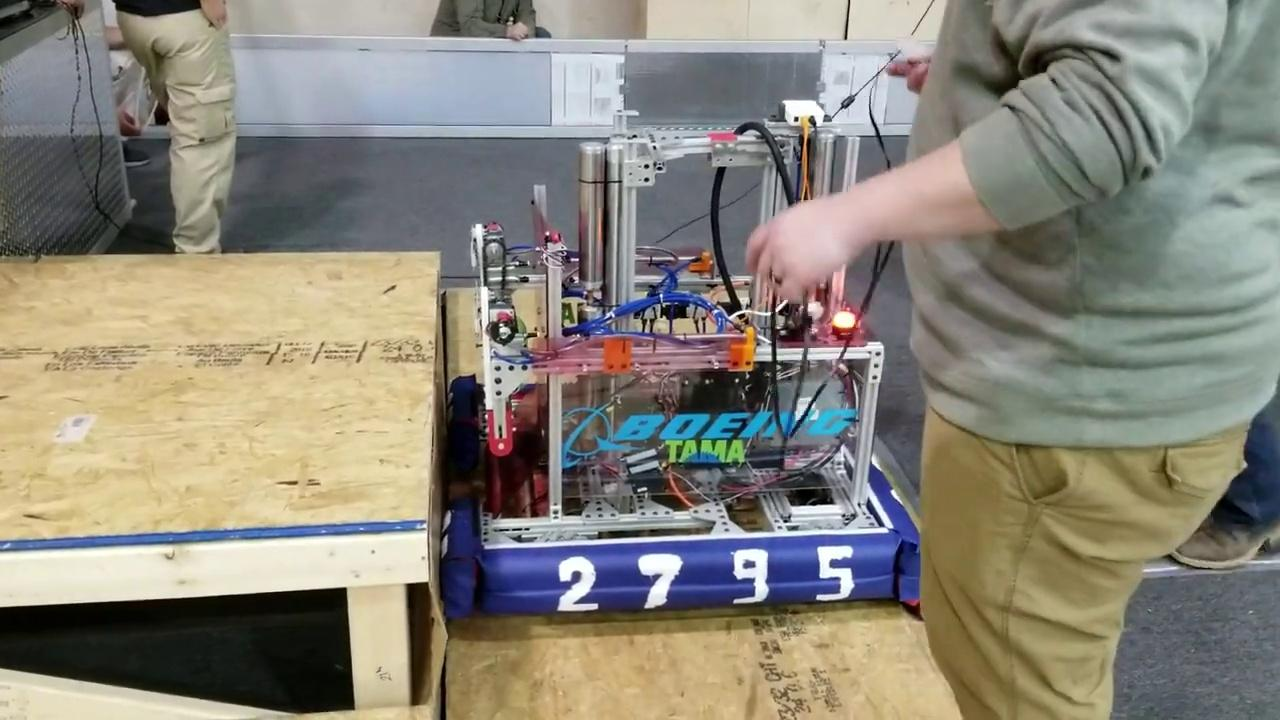robot: (440, 100, 922, 613)
